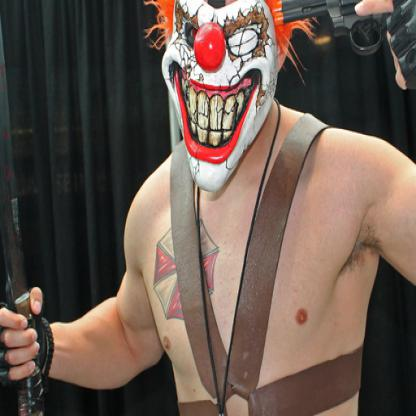gun: (278, 0, 393, 59)
